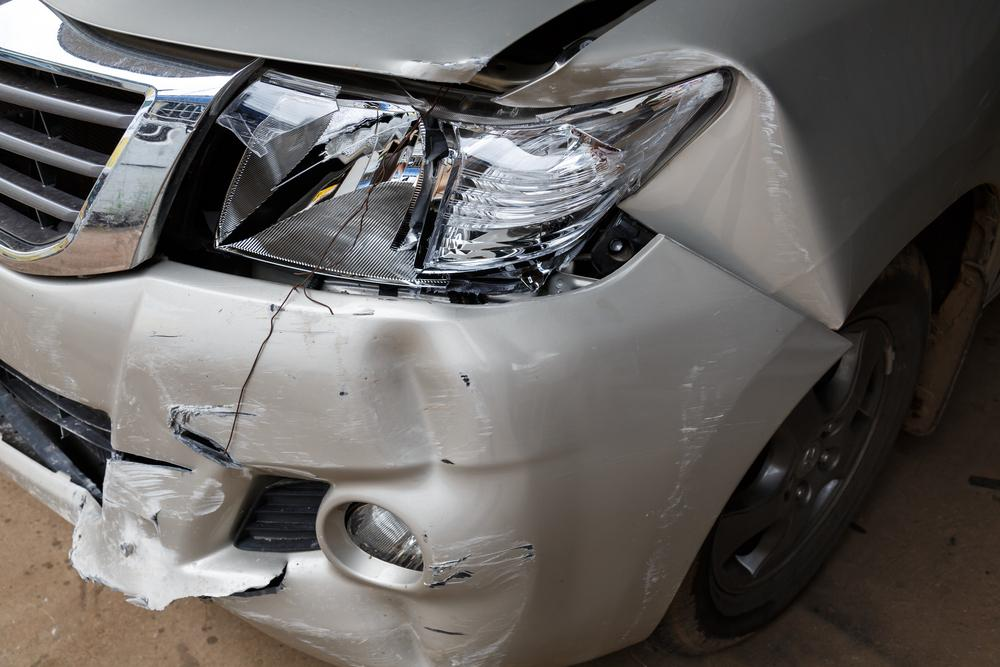crack: (211, 562, 291, 601), (110, 448, 192, 472), (175, 430, 230, 457)
dent: (644, 68, 834, 322), (355, 326, 497, 503), (329, 571, 530, 649), (393, 55, 487, 85)
lamp broken: (209, 64, 724, 301)
scratch: (107, 291, 340, 579), (624, 339, 749, 638), (541, 49, 732, 107), (20, 302, 86, 402), (426, 533, 535, 589)
